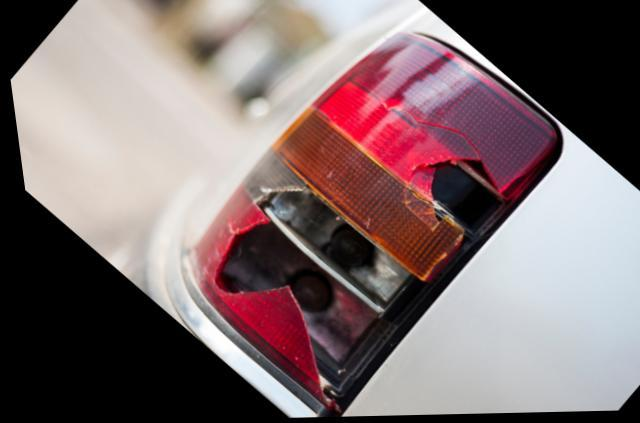lamp broken: (183, 31, 556, 413)
